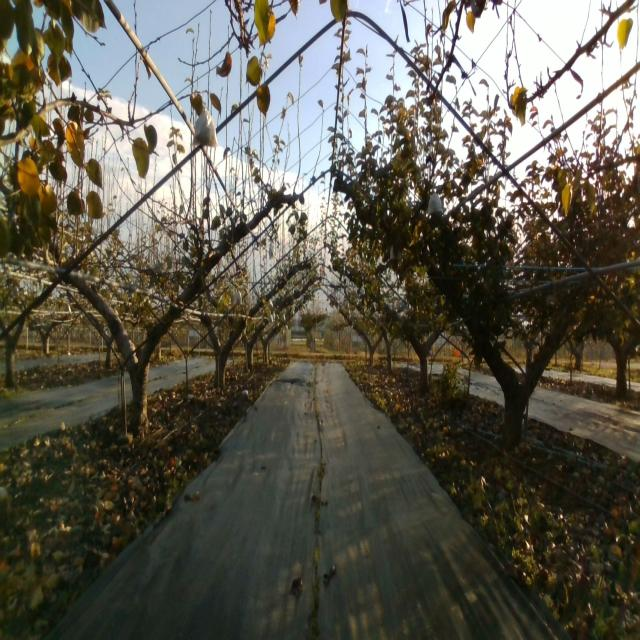pearbags: (192, 104, 219, 149), (428, 192, 443, 216)
